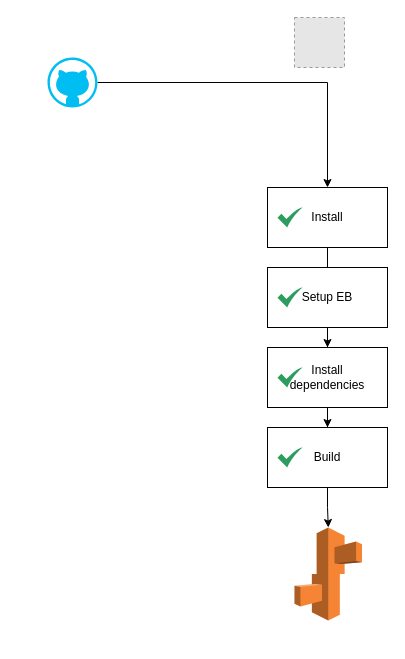
Some shapes in this 405 by 659 pixel diagram are drawn without their labels. Grey dashed boxes stand in for pictures. Each missing label, with the centre of its shape:
"Deploy to EB" belongs at point 328,573.
"Push code to master" belongs at point 72,82.
